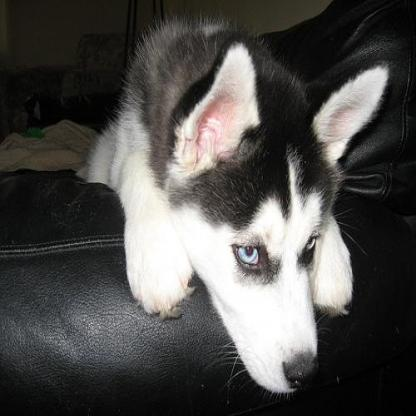Siberian_husky: (76, 12, 398, 393)
